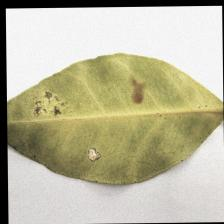canker: (29, 86, 179, 122)
